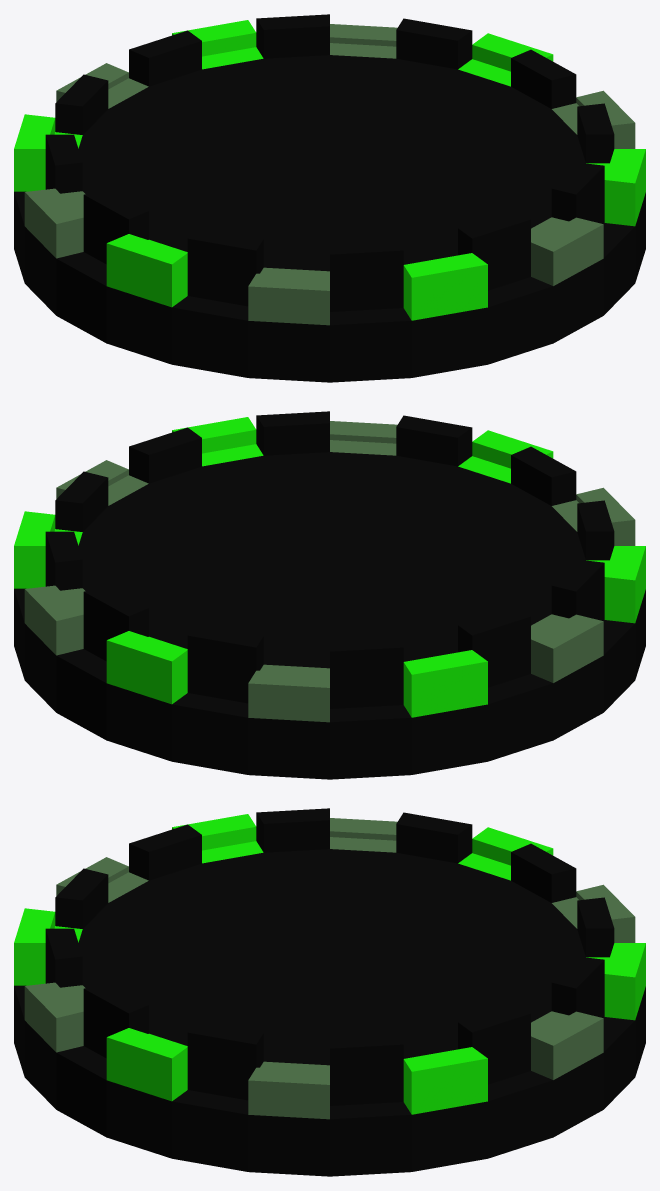
Rendered from Tower select.fbx.
The picture shows the model from 3 angles, top to bottom: view 1: azimuth 30°, elevation 25°; view 2: azimuth 150°, elevation 25°; view 3: azimuth 270°, elevation 25°; orthographic projection.
Parts seen in each view (by area): view 1: Cylinder; view 2: Cylinder; view 3: Cylinder.
Boxes of the visible parts, bbox=[...] form: Cylinder: bbox=[14, 14, 645, 382]; Cylinder: bbox=[14, 411, 645, 779]; Cylinder: bbox=[14, 808, 645, 1176].
Size of the model in its own units: 200 by 40 by 200.
